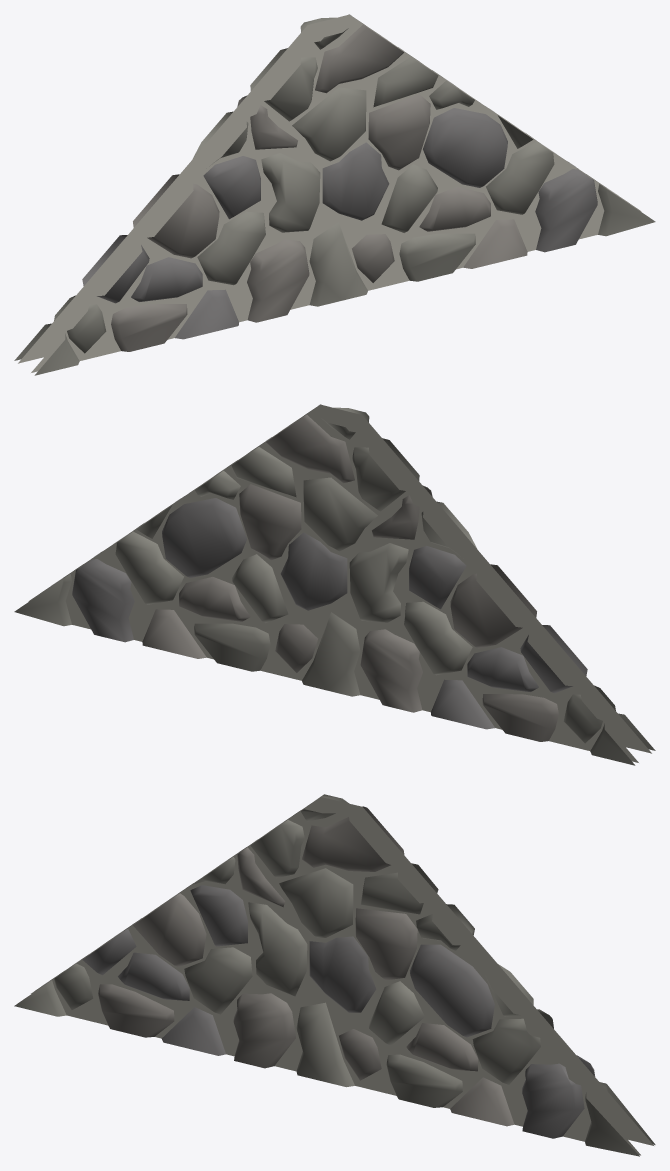
The model's file is rpgpp_ag_roof_end_01_6x3_wall_d.fbx.
3 views of the same model, one above another, from view 1: azimuth 30°, elevation 25°; view 2: azimuth 150°, elevation 25°; view 3: azimuth 330°, elevation 25° (orthographic).
Parts seen in each view (by area): view 1: rpgpp_ag_roof_end_01_6x3_wall_d; view 2: rpgpp_ag_roof_end_01_6x3_wall_d; view 3: rpgpp_ag_roof_end_01_6x3_wall_d.
Boxes of the visible parts, x1=… form: rpgpp_ag_roof_end_01_6x3_wall_d: x1=14, y1=14, x2=655, y2=375; rpgpp_ag_roof_end_01_6x3_wall_d: x1=14, y1=404, x2=655, y2=765; rpgpp_ag_roof_end_01_6x3_wall_d: x1=14, y1=794, x2=655, y2=1156.
Bounding box in the file's own units: 6.49 × 2.67 × 0.404.
